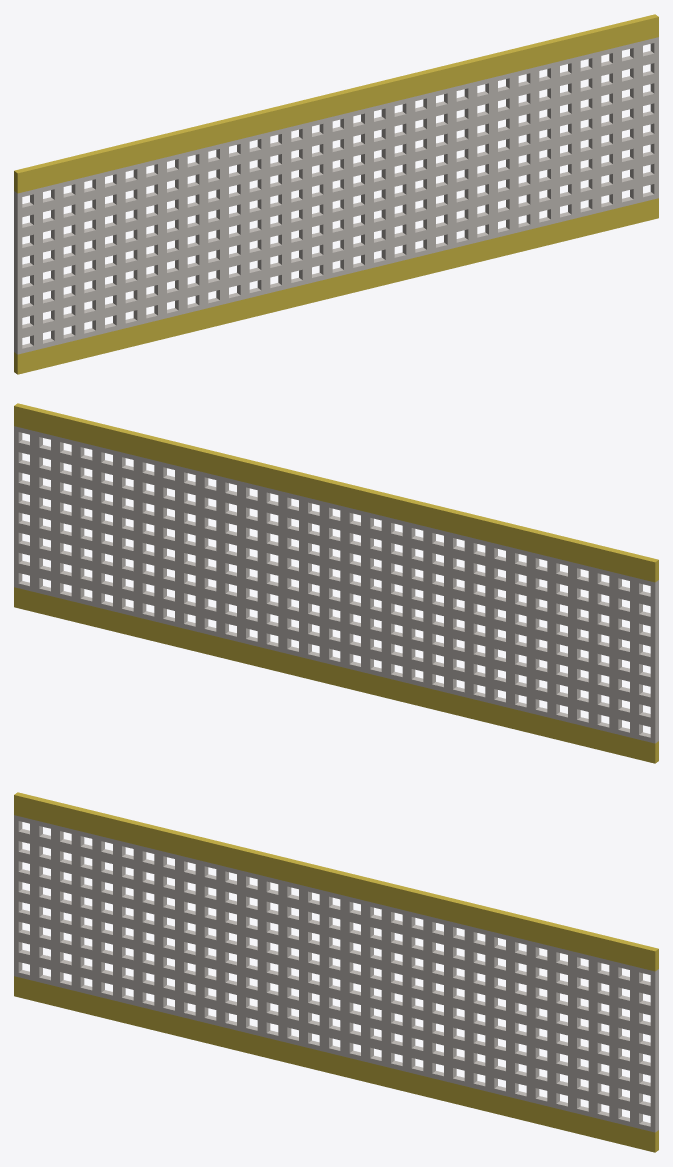
Rendered from Plateforme.fbx.
3 views of the same model, one above another, from view 1: azimuth 30°, elevation 25°; view 2: azimuth 150°, elevation 25°; view 3: azimuth 330°, elevation 25° (orthographic).
Visible parts, largest first — view 1: Plateforme; view 2: Plateforme; view 3: Plateforme.
Part boxes in pixels (box(x1,y1,x2,y2)): Plateforme: box(14, 14, 658, 374); Plateforme: box(14, 403, 658, 763); Plateforme: box(14, 792, 658, 1152).
Size of the model in its own units: 500 by 150 by 5.
